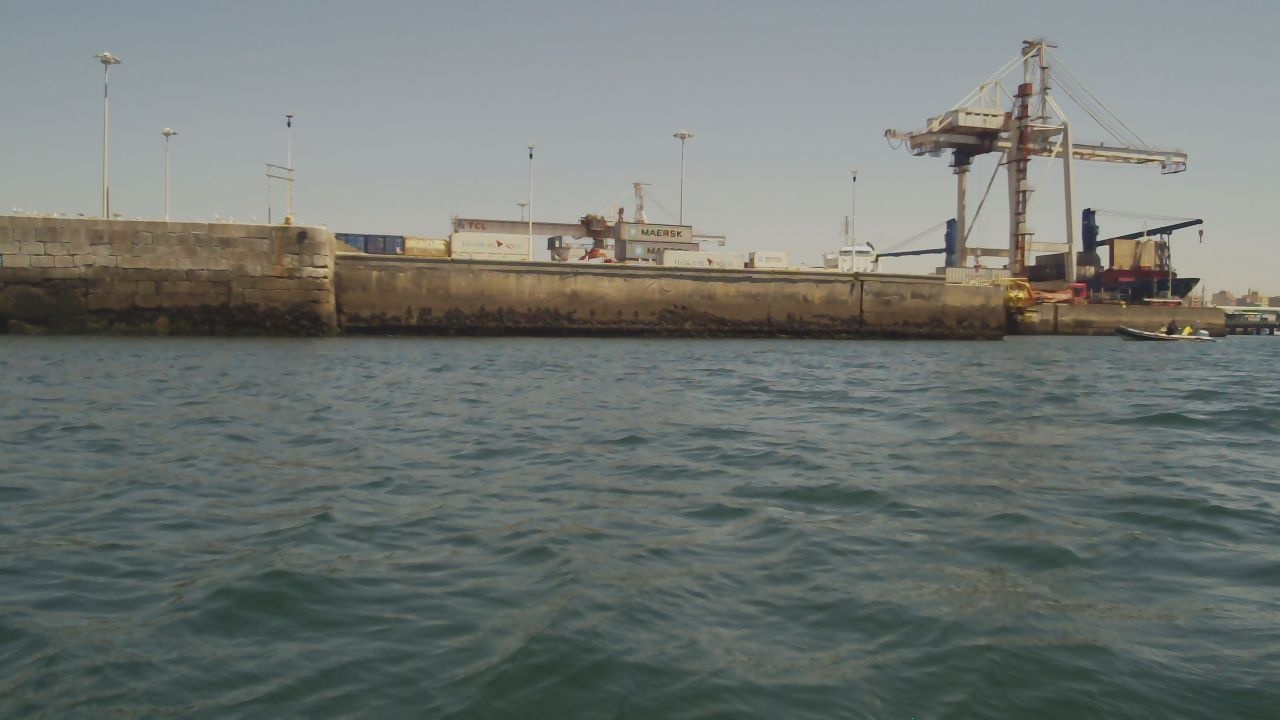Container Ship: (1027, 218, 1205, 300)
